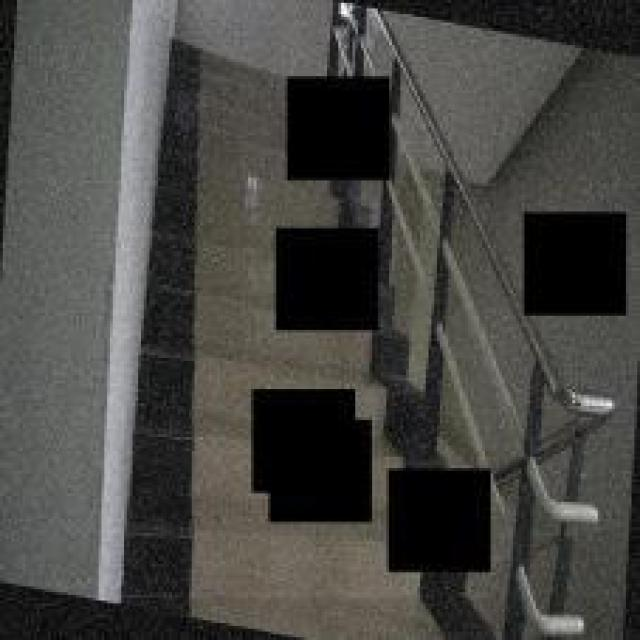upstair: (168, 38, 278, 379)
